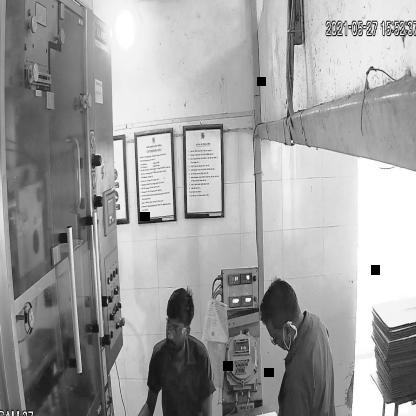goggles: (163, 316, 193, 341)
